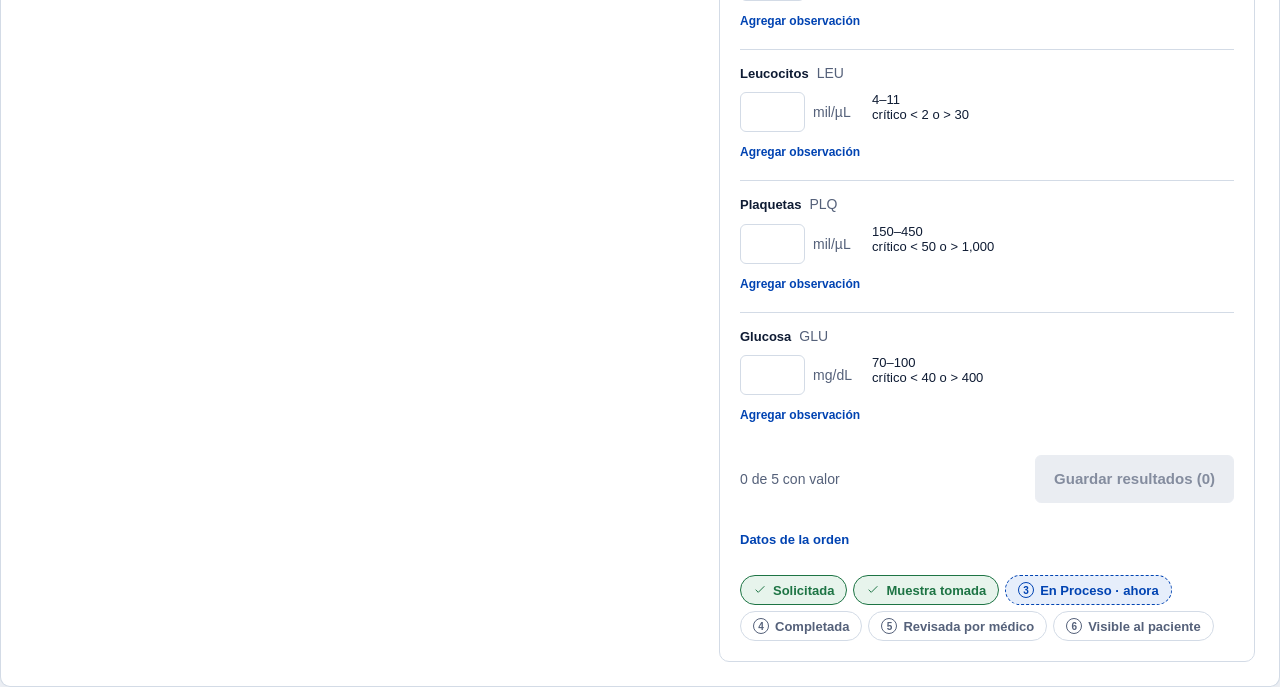
Test: R7 C1 · LAB guarda la hoja completa en un clic › un valor no numérico se marca en el lugar y bloquea el guardado
The image size is (1280, 687).
(page scrolled)
Type "alta" into the field named "Glucosa (mg/dL)". click: (773, 375)
box: [740,355,805,395]
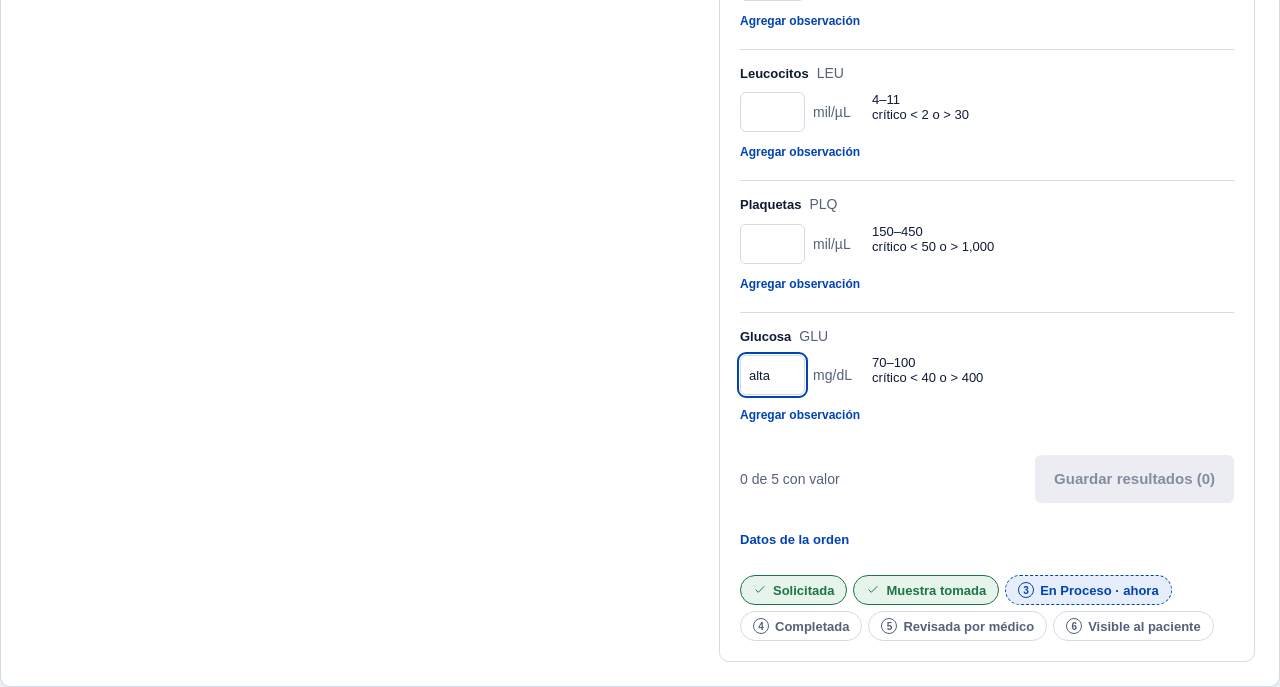
Press Tab
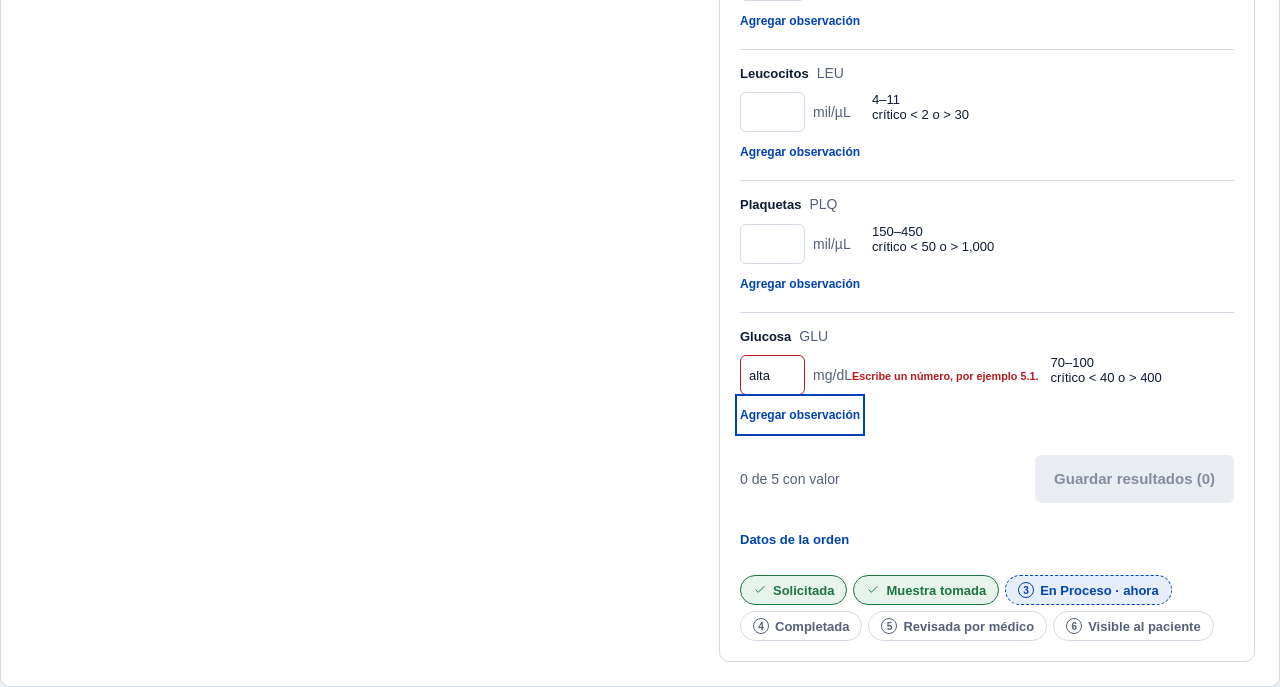
Expected: the button "Guardar resultados (0)" is disabled, [1035,455,1234,503]
Expected: the text "Escribe un número, por ejemplo 5.1." is shown, [852,370,1038,382]
